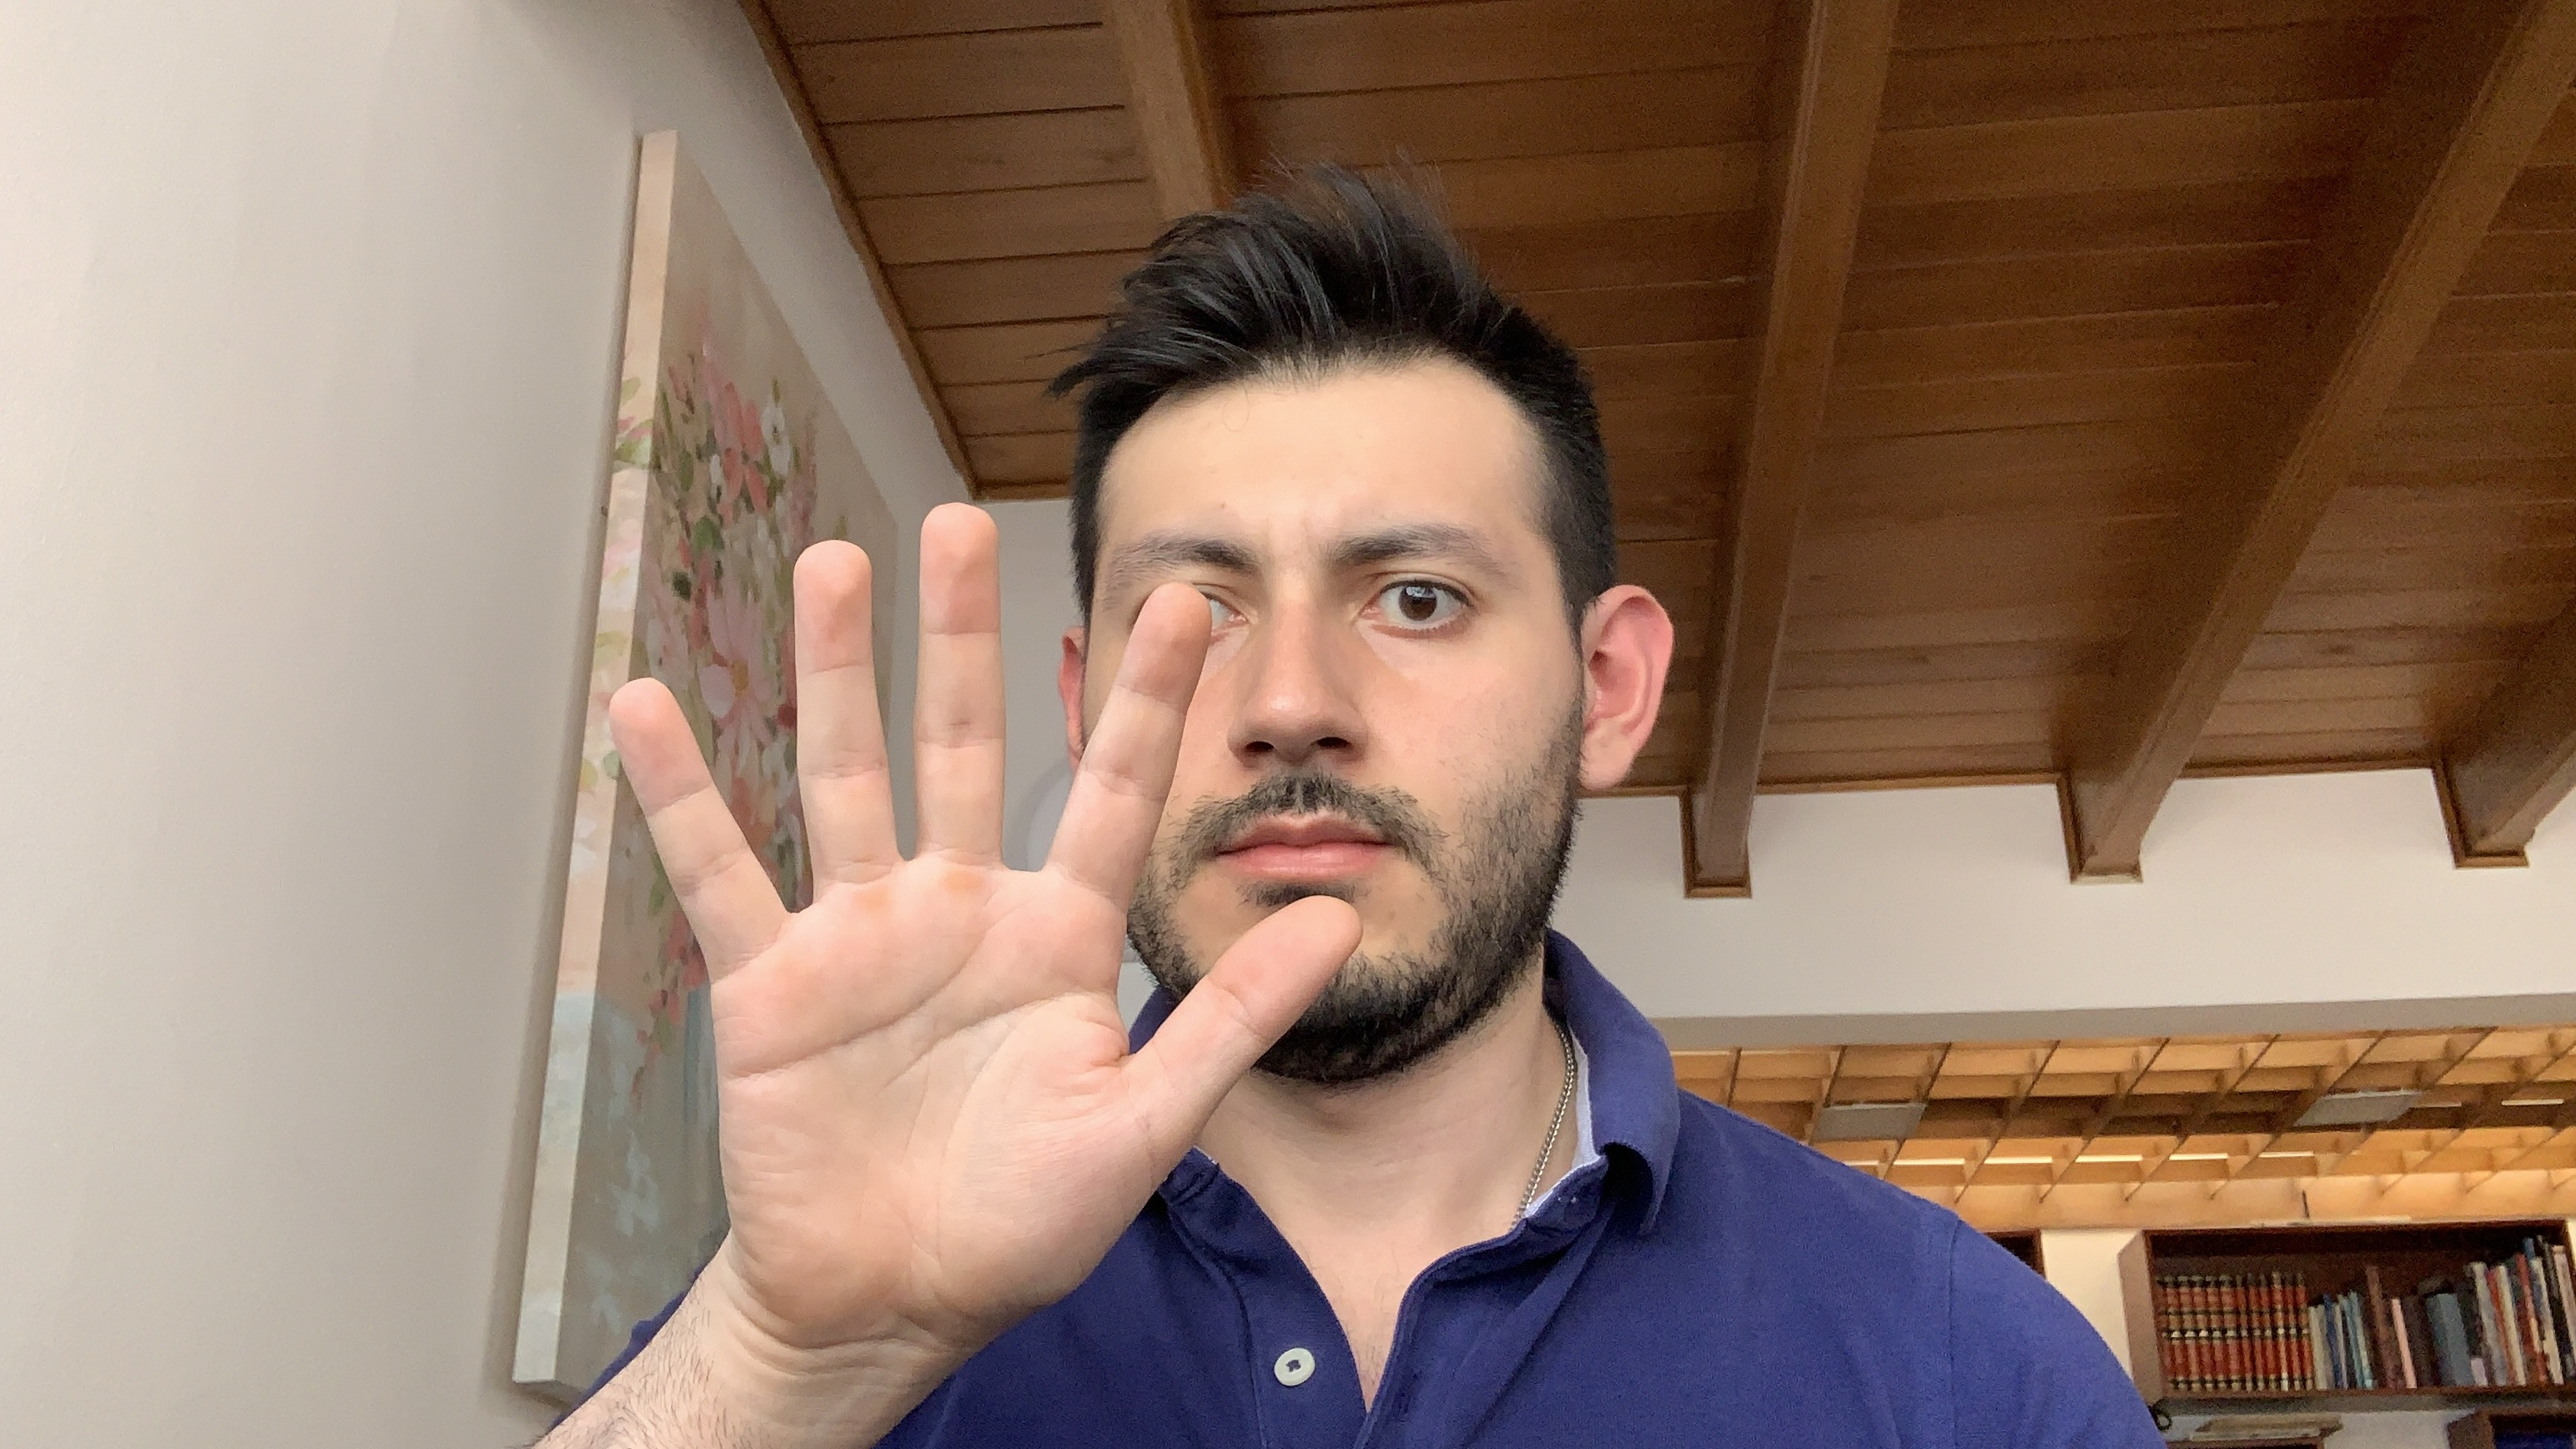Hello: (596, 485, 1380, 1361)
